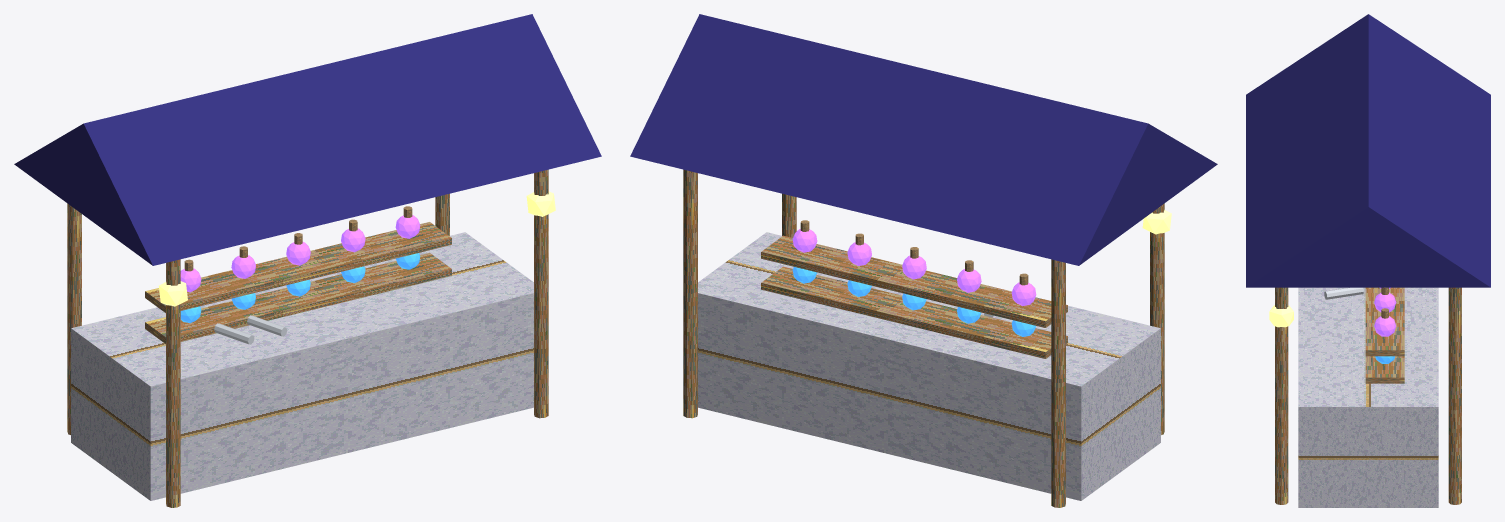
The model's file is puesto_tinta.glb.
3 views of the same model, side by side, from view 1: azimuth 30°, elevation 25°; view 2: azimuth 150°, elevation 25°; view 3: azimuth 270°, elevation 25° (orthographic). The views are drawn at different scales.
Visible parts, largest first — view 1: Toldo_Tinta, Cube, Cube.002, Cube.001, Cylinder, Cylinder.002, Cylinder.001; view 2: Toldo_Tinta, Cube, Cube.002, Cube.001, Cylinder.001, Cylinder.003, Cylinder; view 3: Toldo_Tinta, Cube, Cylinder.003, Cylinder.002, Cube.002, Cube.001, Icosphere.011, Icosphere.009, Cylinder.015, Icosphere.008.
Boxes of the visible parts, box(x1,y1,x2,y2) form: Toldo_Tinta: box(14, 14, 601, 265); Cube: box(71, 232, 533, 500); Cube.002: box(145, 222, 451, 312); Cube.001: box(145, 252, 451, 343); Cylinder: box(166, 259, 180, 507); Cylinder.002: box(534, 169, 548, 418); Cylinder.001: box(67, 203, 81, 434); Toldo_Tinta: box(630, 14, 1217, 265); Cube: box(698, 232, 1160, 500); Cube.002: box(761, 235, 1067, 327); Cube.001: box(761, 266, 1067, 358); Cylinder.001: box(1051, 259, 1065, 507); Cylinder.003: box(683, 169, 697, 418); Cylinder: box(1150, 203, 1164, 434); Toldo_Tinta: box(1246, 14, 1490, 287); Cube: box(1298, 287, 1438, 507); Cylinder.003: box(1448, 287, 1461, 504); Cylinder.002: box(1275, 287, 1288, 504); Cube.002: box(1365, 287, 1404, 356); Cube.001: box(1365, 356, 1404, 383); Icosphere.011: box(1269, 305, 1293, 327); Icosphere.009: box(1374, 316, 1396, 336); Cylinder.015: box(1324, 287, 1363, 299); Icosphere.008: box(1374, 292, 1396, 312).
Bounding box in the file's own units: 4.1 × 3.1 × 2.2.
7 materials, 2 textured.
